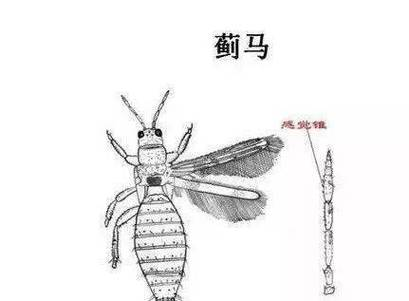Thripidae: (103, 90, 282, 301)
